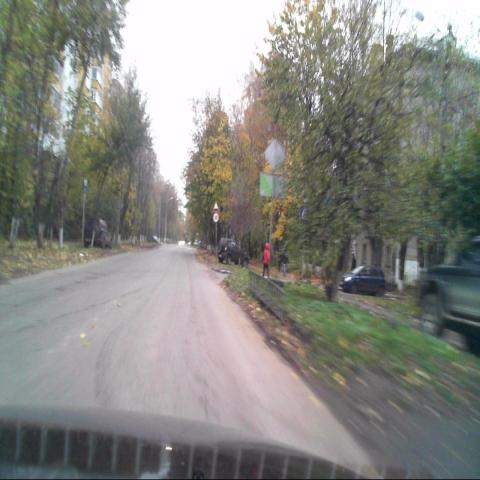1_16: (213, 200, 219, 213)
